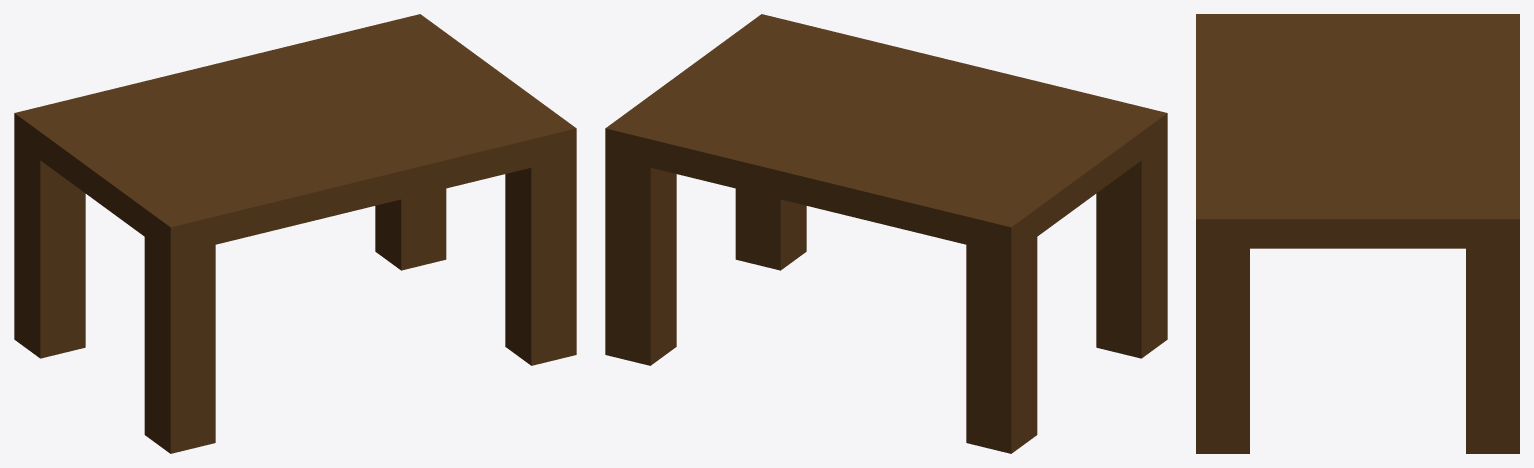
The model's file is Table.glb.
3 renders of one model, left to right at view 1: azimuth 30°, elevation 25°; view 2: azimuth 150°, elevation 25°; view 3: azimuth 270°, elevation 25°, orthographic. The views are drawn at different scales.
Parts seen in each view (by area): view 1: Cube; view 2: Cube; view 3: Cube.
Boxes of the visible parts, bbox=[...] form: Cube: bbox=[14, 14, 576, 453]; Cube: bbox=[605, 14, 1167, 453]; Cube: bbox=[1196, 14, 1519, 453].
Size of the model in its own units: 2.1 by 1.12 by 1.4.
